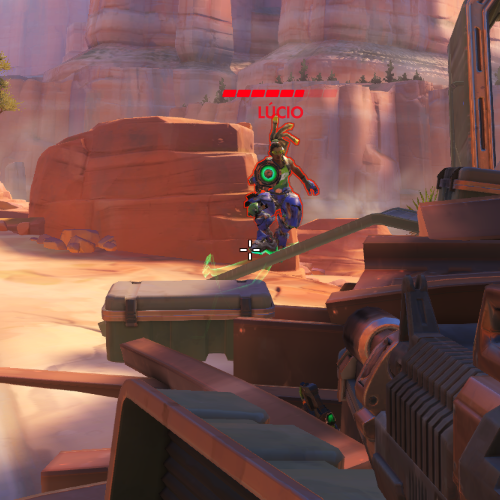hpbar: (222, 89, 338, 97)
